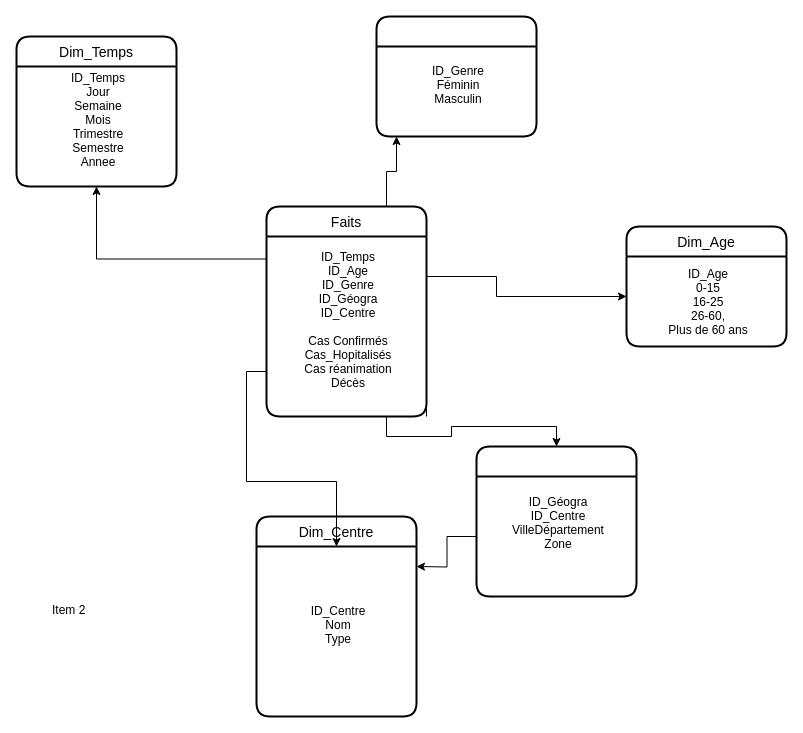
This 803x733 diagram has some shape labels left out. Each missing label, with the box of its shape:
Dim_Genre: (375, 15, 537, 137)
Dim_Géographie: (475, 445, 637, 597)
